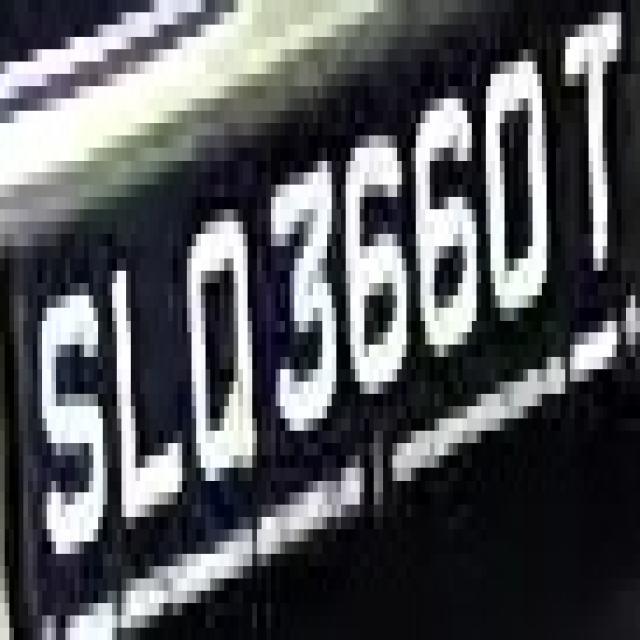0: (481, 62, 556, 320)
3: (257, 172, 355, 480)
6: (406, 86, 486, 394), (332, 123, 411, 431)
L: (108, 234, 192, 529)
Q: (172, 184, 276, 542)
S: (42, 258, 107, 554)
T: (561, 0, 635, 308)
